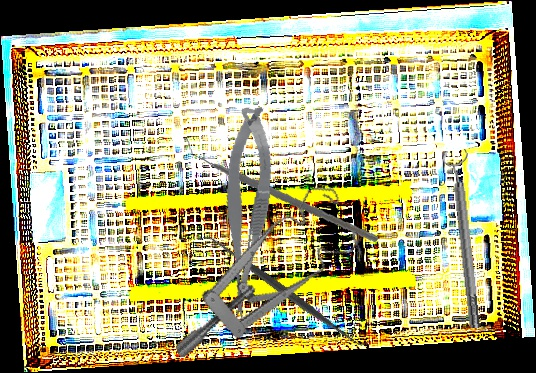Chopper: (185, 114, 379, 264)
Fixation Ring: (441, 148, 488, 330)
Micro Scissor: (203, 103, 286, 322)
Spatula Surgical: (195, 222, 371, 359)
Speculum: (142, 179, 378, 359)
